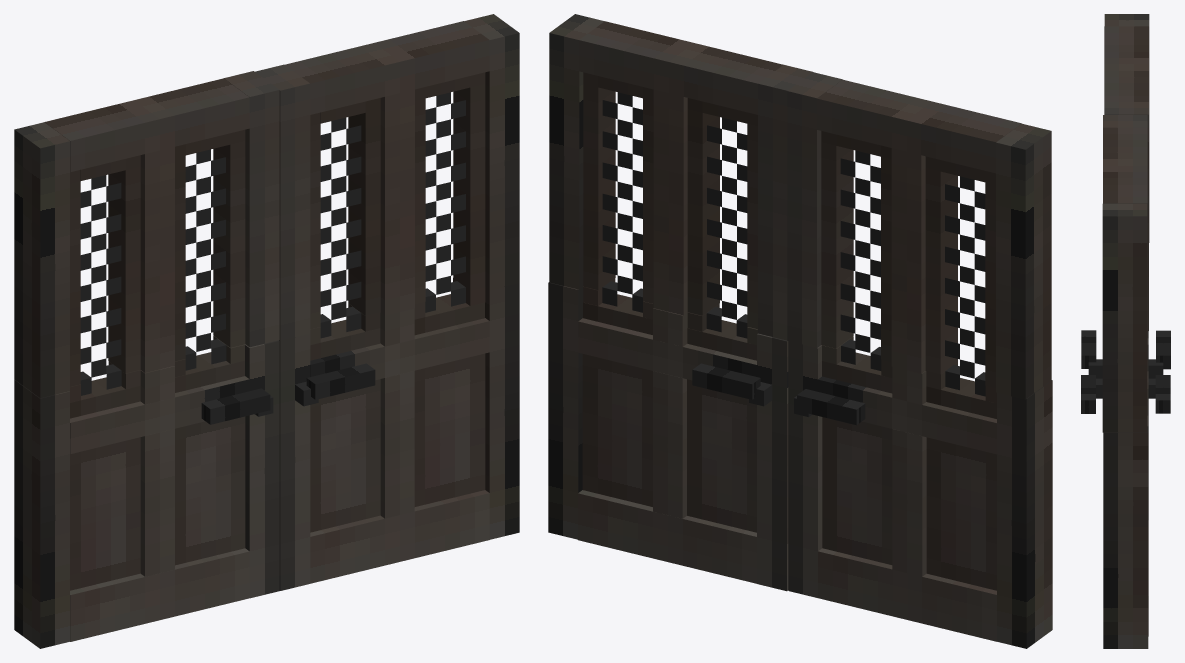
File: oak_doors.glb
3 views of the same model, side by side, from view 1: azimuth 30°, elevation 25°; view 2: azimuth 150°, elevation 25°; view 3: azimuth 270°, elevation 25° (orthographic). The views are drawn at different scales.
Visible parts, largest first — view 1: f200c266-7c64-e128-6a46-a9b943a34243_85, 7f36ec13-ab4c-fed7-2e7f-ad4cd63570c9_68, 207d594c-e5fe-7b4a-0017-6d54fb9f0991_84, 259b9abd-f52f-9ffe-c493-75f91827912f_40, 53b03b73-a788-db71-31ba-7c664c5e6dbb_0, 1b1201af-b0d2-b4da-e8dc-bfe88cbafe10_64, cc05d299-044e-8c9f-d450-67c6e1711592_70, b8a10a9e-7455-c3a8-852d-1f63d1e0d788_95, 83cc6ef2-80a3-e367-f6fe-9d3f8f2a7368_42, 2462d274-a2b8-e363-ef34-2874b8f06614_12, e2d522e6-7f74-a06d-cf33-c15854e2c3b2_66, b5b4dba5-1e64-3c65-6640-bd35773cf538_4 (+30 smaller); view 2: f200c266-7c64-e128-6a46-a9b943a34243_85, 7f36ec13-ab4c-fed7-2e7f-ad4cd63570c9_68, 207d594c-e5fe-7b4a-0017-6d54fb9f0991_84, 259b9abd-f52f-9ffe-c493-75f91827912f_40, 1b1201af-b0d2-b4da-e8dc-bfe88cbafe10_64, 53b03b73-a788-db71-31ba-7c664c5e6dbb_0, cc05d299-044e-8c9f-d450-67c6e1711592_70, b8a10a9e-7455-c3a8-852d-1f63d1e0d788_95, 83cc6ef2-80a3-e367-f6fe-9d3f8f2a7368_42, 2462d274-a2b8-e363-ef34-2874b8f06614_12, b5b4dba5-1e64-3c65-6640-bd35773cf538_4, e2d522e6-7f74-a06d-cf33-c15854e2c3b2_66 (+30 smaller); view 3: 83cc6ef2-80a3-e367-f6fe-9d3f8f2a7368_42, 03f25803-2b98-c82a-c08b-e2afec63103d_8, 259b9abd-f52f-9ffe-c493-75f91827912f_40, 207d594c-e5fe-7b4a-0017-6d54fb9f0991_84, b8a10a9e-7455-c3a8-852d-1f63d1e0d788_95, f200c266-7c64-e128-6a46-a9b943a34243_85, 78c63d5f-ecc2-e0e7-1054-d6d64ab76623_24, 41ecdc49-3f3e-8545-bd3d-ccd5d6424b25_26, 6583ae7a-b9b2-ecf2-fd2a-e3f7e3fa6a8f_62, bd69ff94-31fe-5d37-0434-0dde0f8e49ae_76, 15275812-8d0f-ab9c-0e96-c0bf51cc5120_77, 7b853176-0105-ce14-9de5-f255c5918493_79 (+4 smaller).
Part boxes in pixels (x1,y1,x2,y2): f200c266-7c64-e128-6a46-a9b943a34243_85: (14, 122, 69, 398); 7f36ec13-ab4c-fed7-2e7f-ad4cd63570c9_68: (14, 379, 69, 648); 207d594c-e5fe-7b4a-0017-6d54fb9f0991_84: (44, 78, 249, 172); 259b9abd-f52f-9ffe-c493-75f91827912f_40: (285, 21, 489, 114); 53b03b73-a788-db71-31ba-7c664c5e6dbb_0: (414, 353, 485, 506); 1b1201af-b0d2-b4da-e8dc-bfe88cbafe10_64: (70, 437, 140, 590); cc05d299-044e-8c9f-d450-67c6e1711592_70: (175, 416, 245, 565); b8a10a9e-7455-c3a8-852d-1f63d1e0d788_95: (224, 71, 279, 347); 83cc6ef2-80a3-e367-f6fe-9d3f8f2a7368_42: (464, 14, 519, 290); 2462d274-a2b8-e363-ef34-2874b8f06614_12: (310, 379, 380, 532); e2d522e6-7f74-a06d-cf33-c15854e2c3b2_66: (70, 548, 249, 641); b5b4dba5-1e64-3c65-6640-bd35773cf538_4: (310, 490, 489, 583); f200c266-7c64-e128-6a46-a9b943a34243_85: (996, 123, 1051, 399); 7f36ec13-ab4c-fed7-2e7f-ad4cd63570c9_68: (997, 380, 1052, 648); 207d594c-e5fe-7b4a-0017-6d54fb9f0991_84: (817, 79, 1021, 173); 259b9abd-f52f-9ffe-c493-75f91827912f_40: (579, 21, 783, 114); 1b1201af-b0d2-b4da-e8dc-bfe88cbafe10_64: (926, 437, 996, 590); 53b03b73-a788-db71-31ba-7c664c5e6dbb_0: (582, 354, 652, 506); cc05d299-044e-8c9f-d450-67c6e1711592_70: (822, 417, 892, 564); b8a10a9e-7455-c3a8-852d-1f63d1e0d788_95: (787, 72, 842, 347); 83cc6ef2-80a3-e367-f6fe-9d3f8f2a7368_42: (549, 14, 604, 289); 2462d274-a2b8-e363-ef34-2874b8f06614_12: (687, 379, 756, 532); b5b4dba5-1e64-3c65-6640-bd35773cf538_4: (578, 490, 756, 583); e2d522e6-7f74-a06d-cf33-c15854e2c3b2_66: (818, 548, 996, 641); 83cc6ef2-80a3-e367-f6fe-9d3f8f2a7368_42: (1102, 203, 1147, 432); 03f25803-2b98-c82a-c08b-e2afec63103d_8: (1103, 420, 1148, 648); 259b9abd-f52f-9ffe-c493-75f91827912f_40: (1103, 127, 1147, 230); 207d594c-e5fe-7b4a-0017-6d54fb9f0991_84: (1104, 26, 1148, 101); b8a10a9e-7455-c3a8-852d-1f63d1e0d788_95: (1104, 102, 1148, 330); f200c266-7c64-e128-6a46-a9b943a34243_85: (1104, 14, 1149, 242); 78c63d5f-ecc2-e0e7-1054-d6d64ab76623_24: (1155, 375, 1170, 413); 41ecdc49-3f3e-8545-bd3d-ccd5d6424b25_26: (1081, 375, 1095, 413); 6583ae7a-b9b2-ecf2-fd2a-e3f7e3fa6a8f_62: (1103, 115, 1147, 127); bd69ff94-31fe-5d37-0434-0dde0f8e49ae_76: (1081, 330, 1096, 368); 15275812-8d0f-ab9c-0e96-c0bf51cc5120_77: (1156, 330, 1170, 369); 7b853176-0105-ce14-9de5-f255c5918493_79: (1148, 359, 1163, 378).
Bounding box in the file's own units: 32.06 × 32.05 × 6.02.
Materials: 2 (2 with a texture image).
